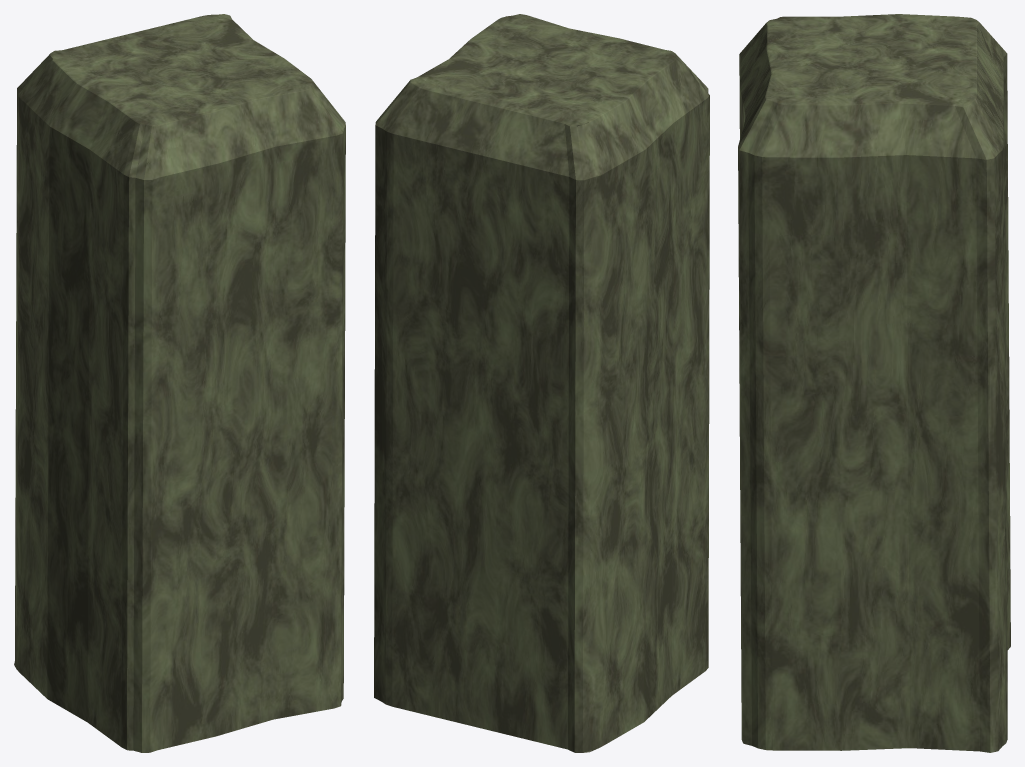
The model's file is Log.fbx.
3 views of the same model, side by side, from view 1: azimuth 30°, elevation 25°; view 2: azimuth 150°, elevation 25°; view 3: azimuth 270°, elevation 25° (orthographic). The views are drawn at different scales.
Parts seen in each view (by area): view 1: AA_Block; view 2: AA_Block; view 3: AA_Block.
Part boxes in pixels (x1,y1,x2,y2): AA_Block: (14, 14, 345, 752); AA_Block: (374, 14, 709, 752); AA_Block: (738, 14, 1010, 752).
Size of the model in its own units: 209 by 529 by 205.
1 material, 1 textured.
